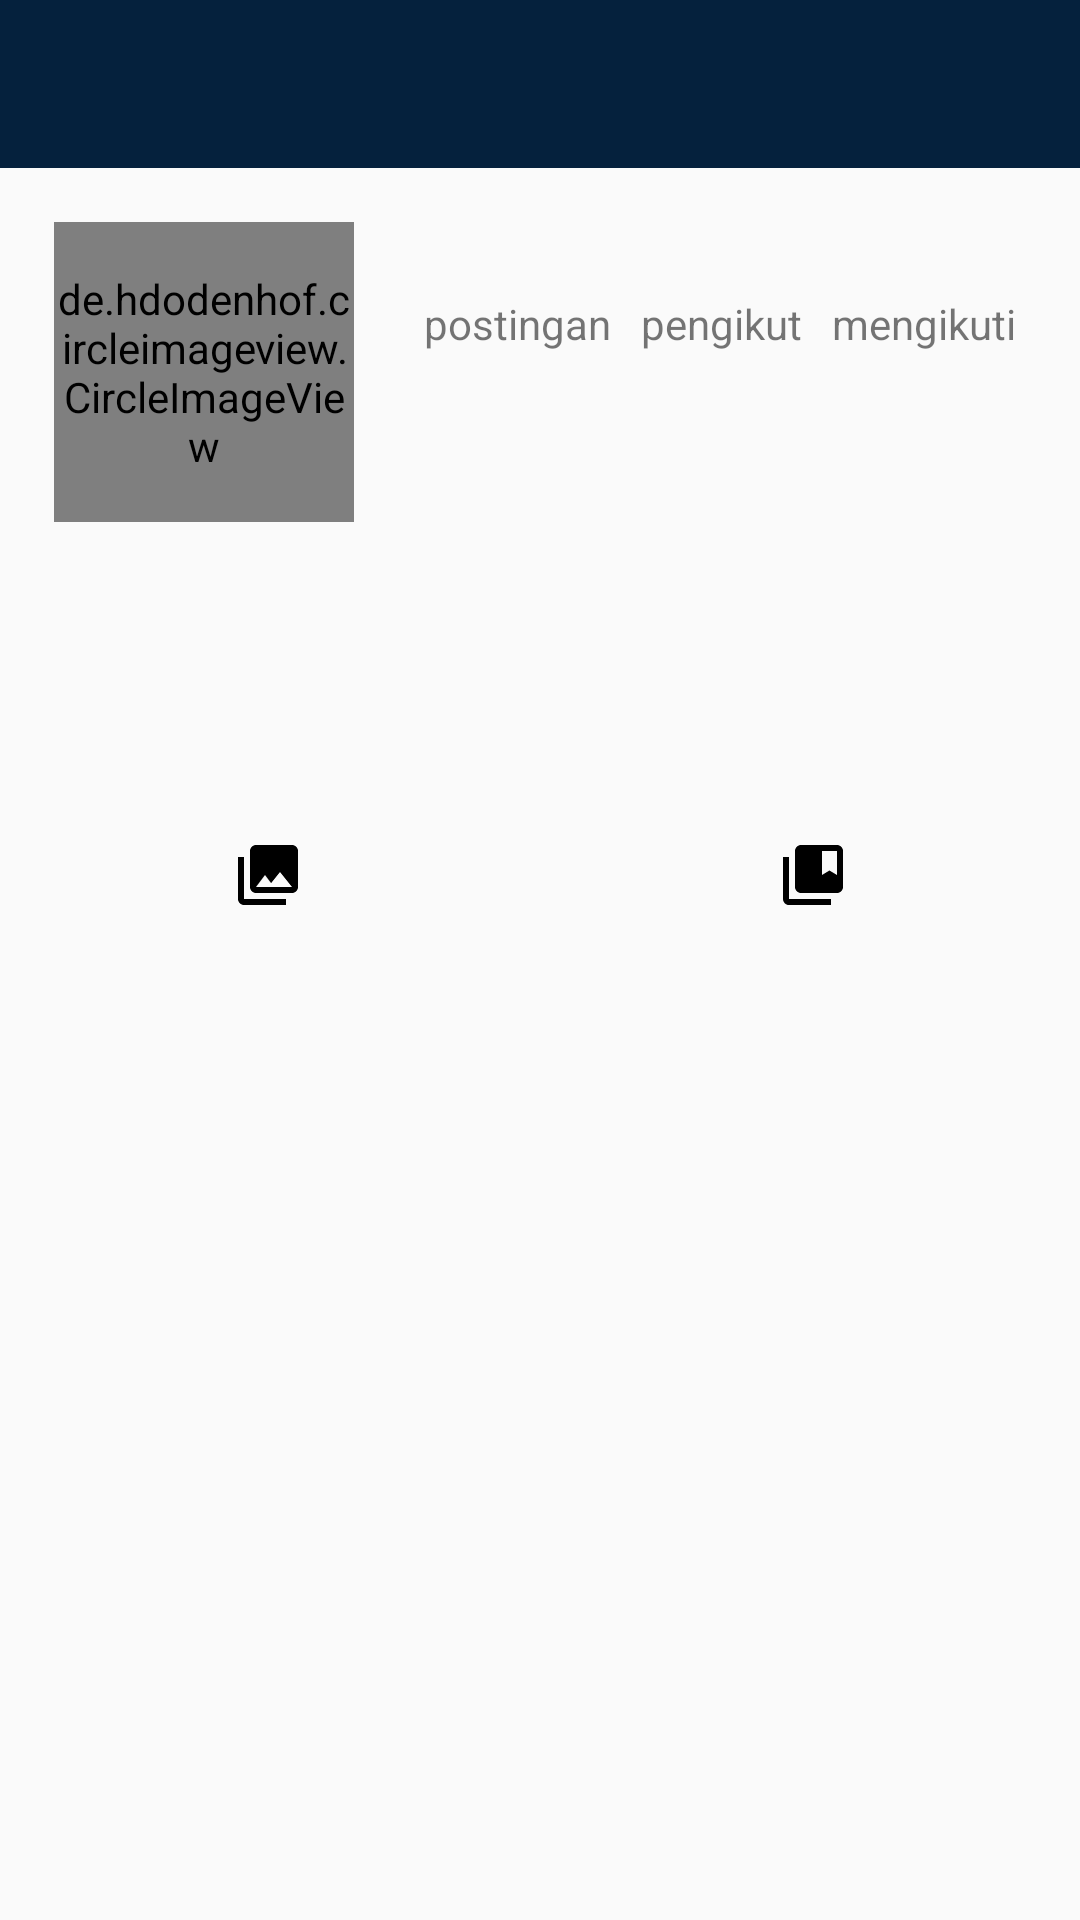

Where to tap for icons on this 1080*1920 app screen, as (x=x, y=y):
collections: (x=268, y=875)
simpan hitam: (x=813, y=875)
